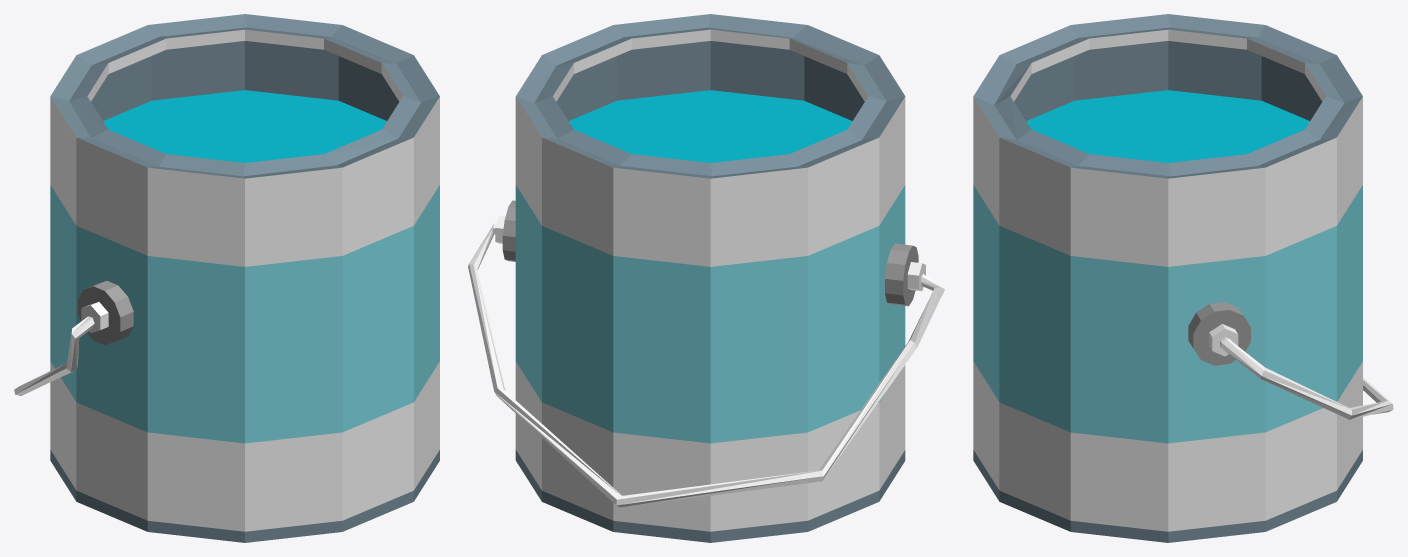
File: Paint Can.glb
3 renders of one model, left to right at view 1: azimuth 30°, elevation 25°; view 2: azimuth 150°, elevation 25°; view 3: azimuth 270°, elevation 25°, orthographic.
Visible parts, largest first — view 1: Node; view 2: Node; view 3: Node.
Boxes of the visible parts, x1,y1,x2,y2 form: Node: [14, 14, 439, 542]; Node: [468, 14, 944, 542]; Node: [973, 14, 1393, 542].
Size of the model in its own units: 0.7463 by 0.65 by 0.6795.
